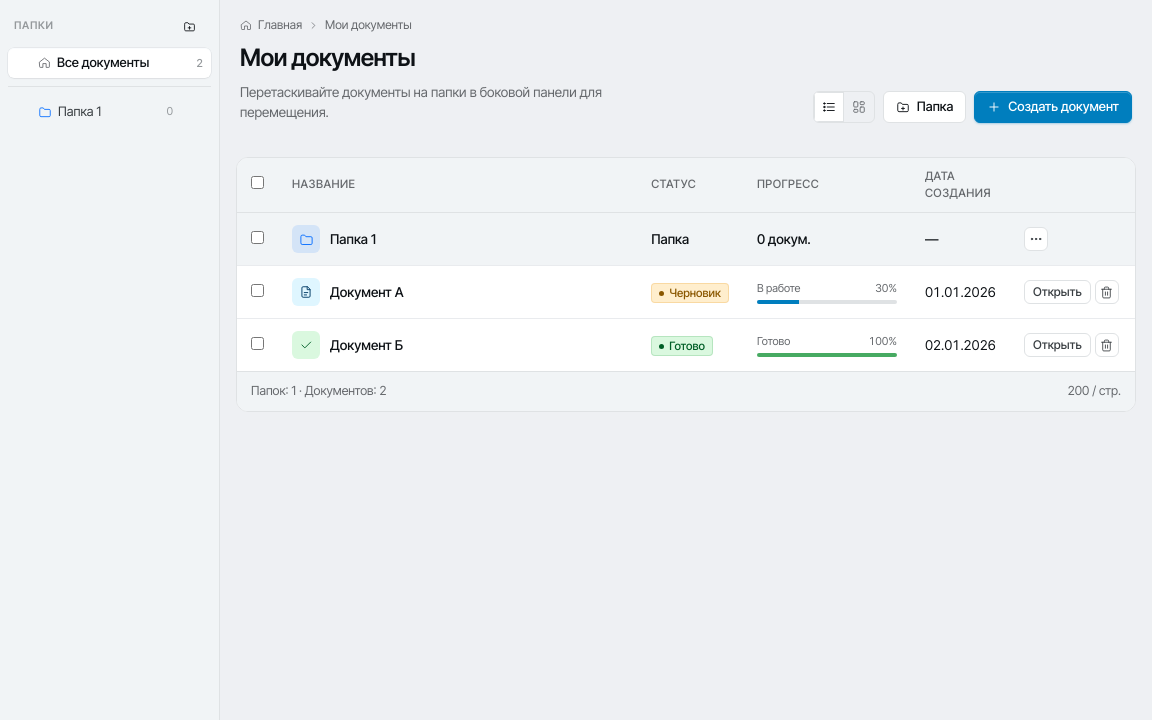
Test case: DocumentsPage bulk actions (BUG-049) › bulk bar: a folder-only selection disables both bulk actions
The width and height of the screenshot is (1152, 720).
expect the text "Папка 1" is shown: met, box [330,231,376,247]
What coordinates should you click on to do the following:
click the checkbox in the row of "докум."
I would click on:
 (258, 237)
Its box is [251,231,264,244].
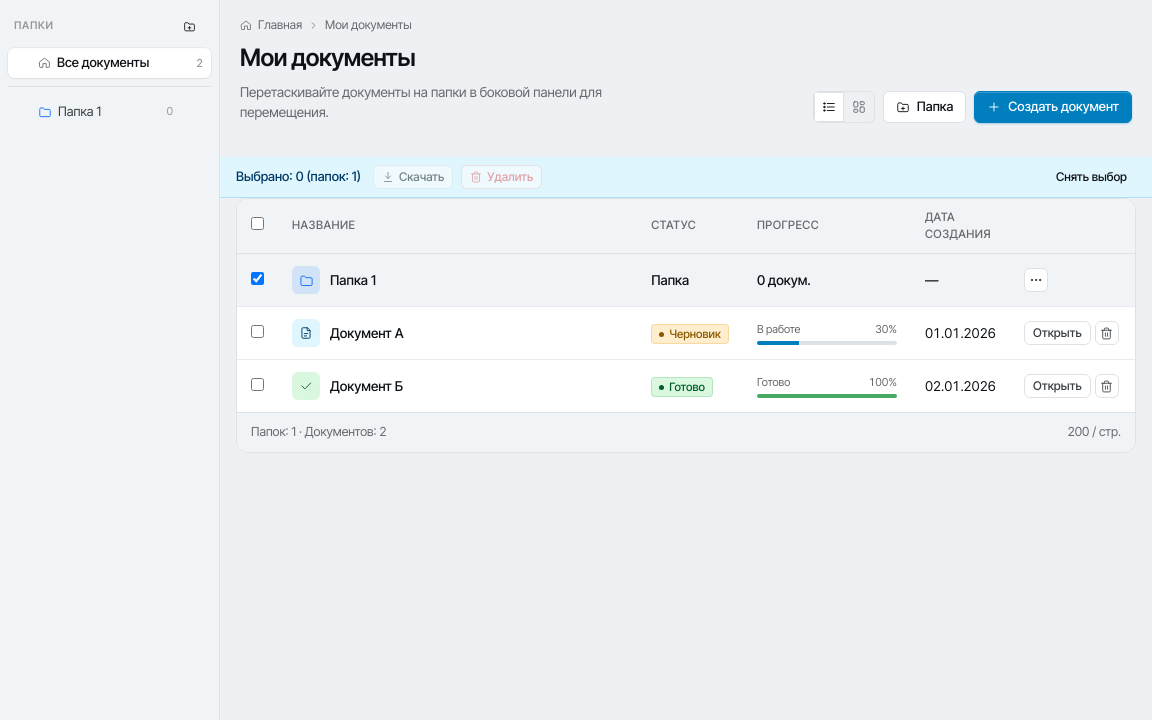
expect the text "Выбрано: 0 (папок: 1)" is shown: met, box [236,167,361,186]
expect the button "Скачать" is disabled: met, box [373,164,453,188]
expect the button "Удалить" is disabled: met, box [461,164,542,188]
